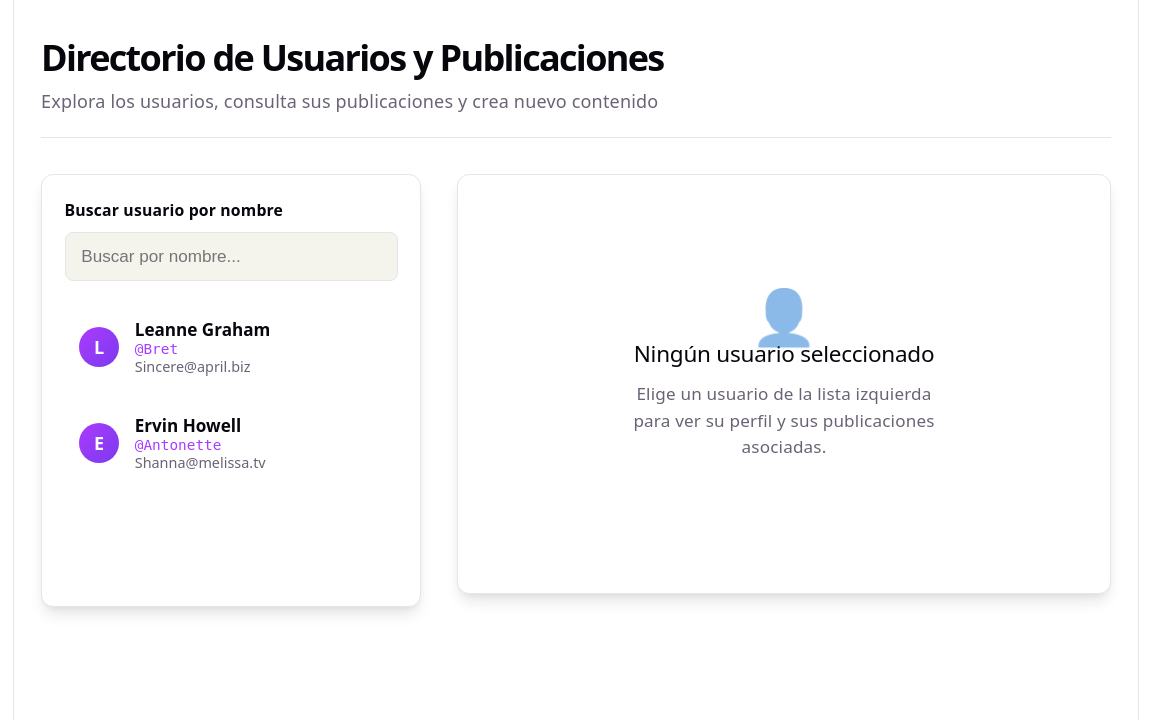
Test: App component (Integration) › limpia el contenido del formulario al cambiar de usuario y conserva en sesión las publicaciones creadas previamente
expect the text "Leanne Graham" is shown: met, box [135, 318, 270, 341]
Click the button "L Leanne Graham @Bret Sincere@april.biz" at (99, 347), box [64, 304, 393, 391]
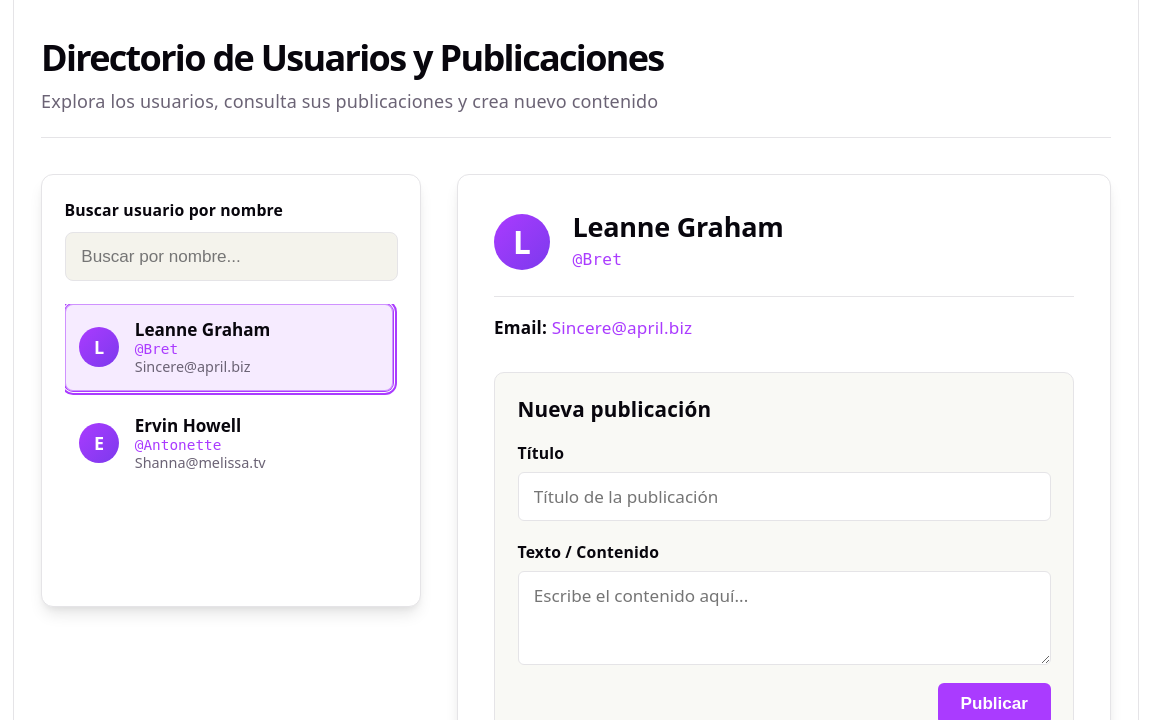
Type "Post Local de Usuario 1" into the field labelled "Título" at (784, 496), box [518, 472, 1050, 521]
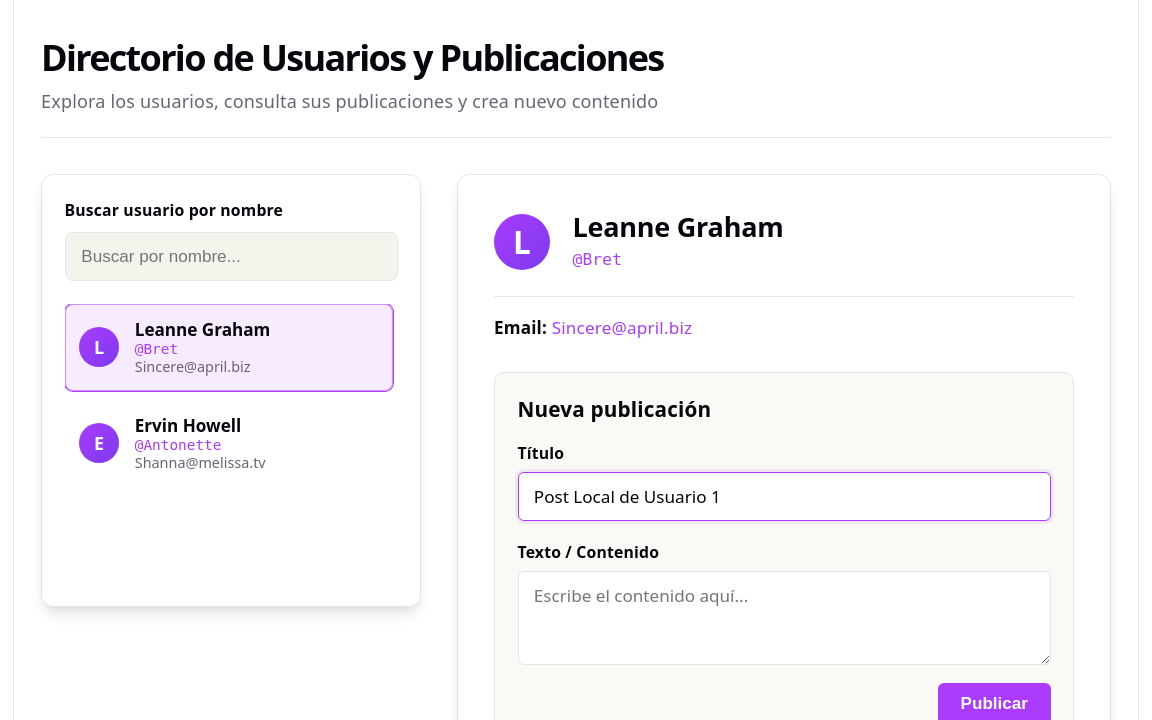
Type "Cuerpo creado en sesión" into the text box labelled "Texto / Contenido" at (784, 618), box [518, 571, 1050, 666]
(page scrolled)
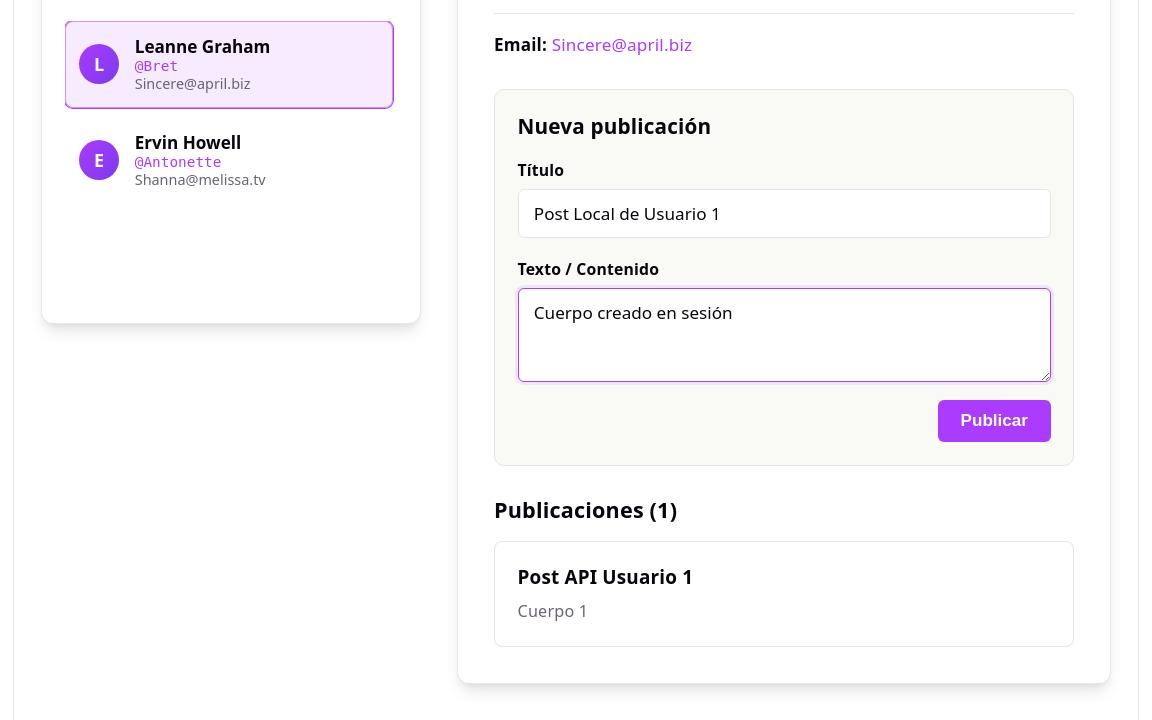
Click the button "Publicar" at (994, 421), box [938, 400, 1050, 442]
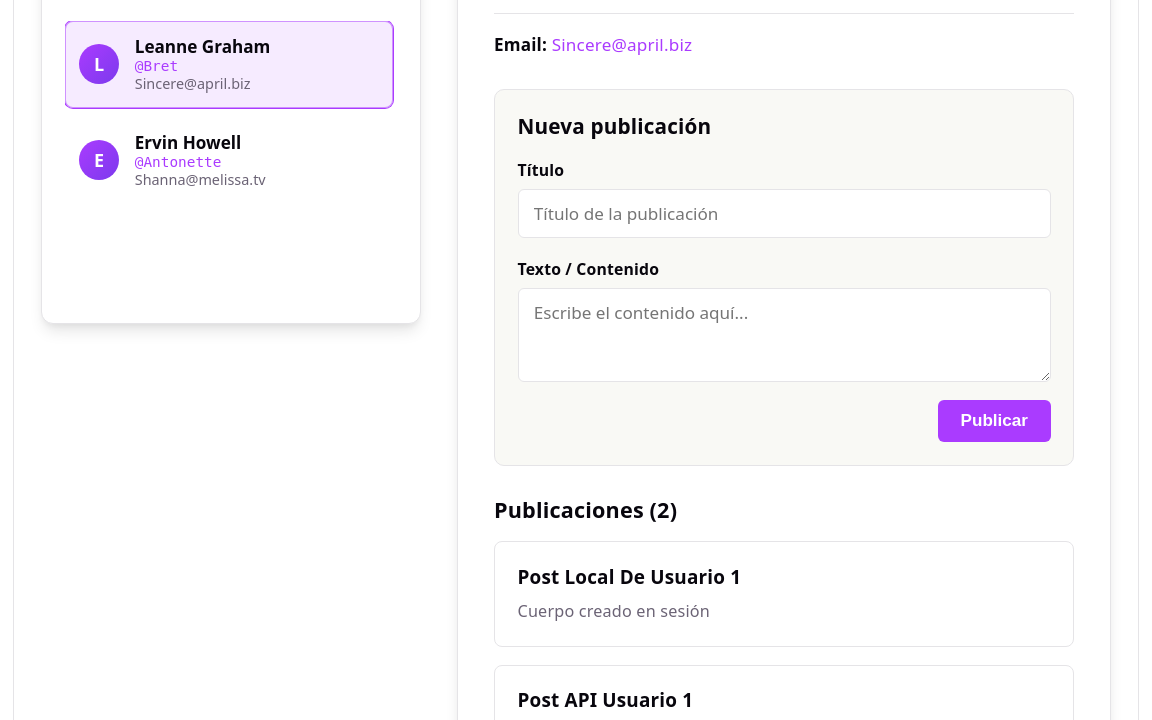
expect the heading "Post Local de Usuario 1" is shown: met, box [518, 564, 741, 590]
# Escribe un borrador sin enviar en el formulario del Usuario 1
Type "Borrador sin publicar" into the field labelled "Título" at (784, 214), box [518, 189, 1050, 238]
# Cambia a Usuario 2 (Ervin Howell)
Click the button "E Ervin Howell @Antonette Shanna@melissa.tv" at (99, 160), box [64, 117, 393, 204]
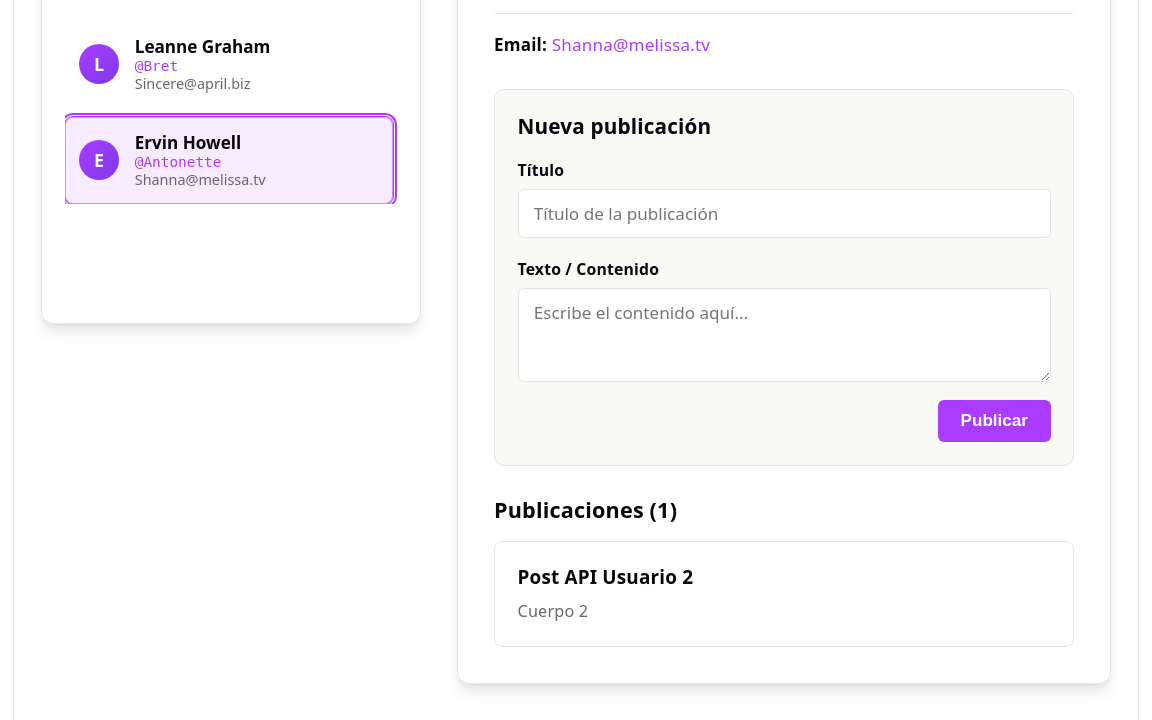
expect the heading "Post API Usuario 2" is shown: met, box [518, 564, 693, 590]
expect the field labelled "Título" is empty: met, box [518, 189, 1050, 238]
expect the heading "Post Local de Usuario 1" is gone: met
# Vuelve a Usuario 1 (Leanne Graham)
Click the button "L Leanne Graham @Bret Sincere@april.biz" at (99, 64), box [64, 21, 393, 108]
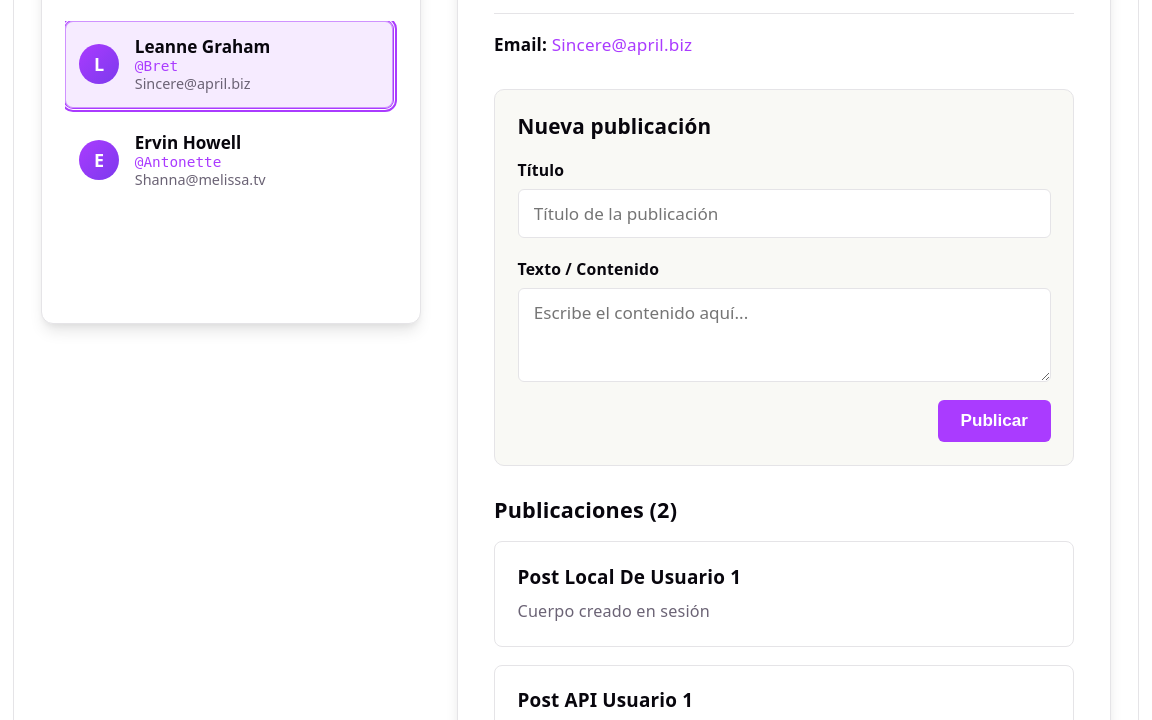
expect the field labelled "Título" is empty: met, box [518, 189, 1050, 238]
expect the heading "Post API Usuario 1" is shown: met, box [518, 688, 693, 714]
expect the heading "Post Local de Usuario 1" is shown: met, box [518, 564, 741, 590]
